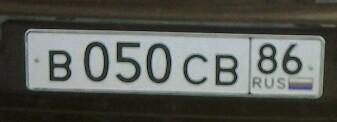license-plateSW: (23, 31, 326, 94)
